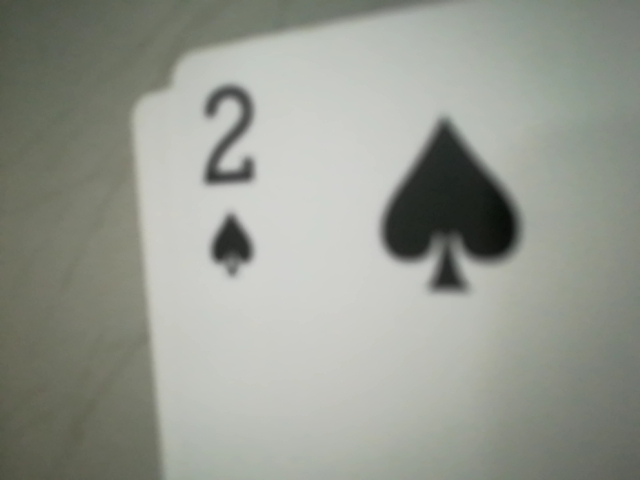ht 2: (174, 51, 278, 324)
